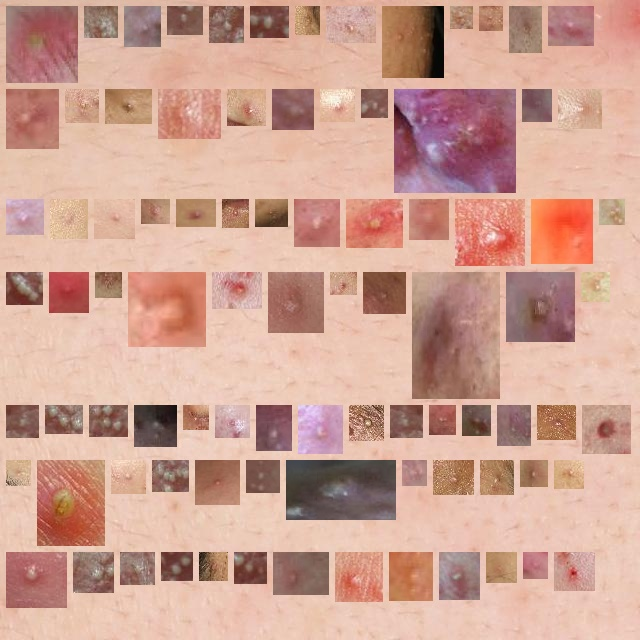pustule: (402, 97, 508, 185), (420, 280, 492, 391), (294, 468, 388, 512), (136, 280, 198, 339), (45, 468, 97, 538), (14, 14, 70, 75), (514, 280, 567, 334), (463, 207, 517, 258), (390, 14, 436, 70), (539, 207, 585, 256), (6, 97, 51, 141), (276, 280, 316, 325), (14, 560, 59, 600), (166, 97, 213, 131), (335, 560, 375, 594), (354, 207, 395, 240), (590, 413, 623, 446), (281, 560, 321, 587), (302, 207, 332, 239), (306, 413, 335, 446), (397, 560, 425, 593), (203, 468, 232, 497), (447, 560, 472, 592), (220, 278, 254, 301), (556, 14, 586, 38), (334, 14, 368, 35), (371, 280, 398, 306), (142, 413, 169, 439), (566, 97, 594, 121), (280, 97, 306, 122), (81, 560, 106, 585), (102, 207, 127, 231), (417, 207, 441, 232), (57, 280, 81, 305), (264, 413, 284, 443), (113, 97, 144, 116), (562, 560, 587, 583), (58, 207, 80, 231), (517, 14, 534, 45), (132, 14, 153, 39), (235, 97, 258, 118), (441, 468, 466, 487), (505, 413, 523, 438), (14, 207, 36, 227), (545, 413, 568, 432), (217, 14, 236, 35), (357, 413, 376, 433), (258, 14, 281, 30), (97, 413, 120, 429), (14, 280, 35, 297), (119, 468, 138, 486), (488, 468, 506, 487), (160, 468, 181, 484), (73, 97, 91, 115), (328, 97, 347, 114), (223, 413, 242, 430), (128, 560, 147, 577), (254, 468, 272, 485), (14, 413, 31, 430), (398, 413, 415, 430), (92, 14, 110, 30), (184, 207, 208, 219), (53, 413, 75, 426), (242, 560, 259, 576), (175, 14, 195, 27), (530, 97, 544, 114), (494, 560, 509, 575), (169, 560, 185, 573), (263, 207, 280, 219), (470, 413, 483, 428), (589, 280, 602, 294), (562, 468, 576, 481), (207, 560, 220, 573), (437, 413, 448, 427), (369, 97, 380, 110), (230, 207, 241, 220), (528, 468, 540, 479), (303, 14, 312, 27), (149, 207, 162, 216), (103, 280, 114, 290), (607, 207, 617, 217), (531, 560, 540, 571), (191, 413, 201, 422), (14, 468, 23, 478), (410, 468, 419, 478), (338, 280, 349, 287), (487, 14, 495, 23), (458, 14, 465, 21)
